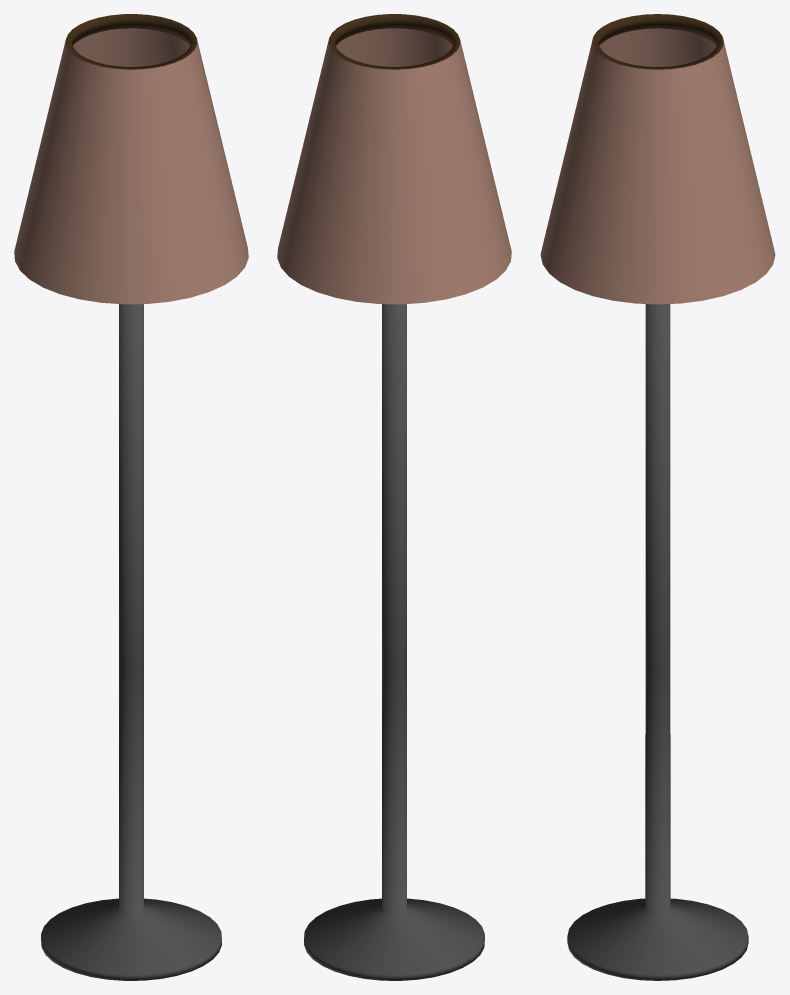
File: uploads_files_2750240_Lamp.fbx
3 renders of one model, left to right at view 1: azimuth 30°, elevation 25°; view 2: azimuth 150°, elevation 25°; view 3: azimuth 270°, elevation 25°, orthographic.
Parts seen in each view (by area): view 1: Cylinder.004, Cylinder, Cylinder.003; view 2: Cylinder.004, Cylinder, Cylinder.003; view 3: Cylinder.004, Cylinder, Cylinder.003.
Boxes of the visible parts, x1,y1,x2,y2 form: Cylinder.004: (14,28,248,304); Cylinder: (41,304,221,980); Cylinder.003: (65,14,197,69); Cylinder.004: (277,28,511,304); Cylinder: (304,304,484,980); Cylinder.003: (328,14,460,69); Cylinder.004: (540,28,775,304); Cylinder: (567,304,748,980); Cylinder.003: (592,14,723,69).
Bounding box in the file's own units: 397 × 1681 × 397.
